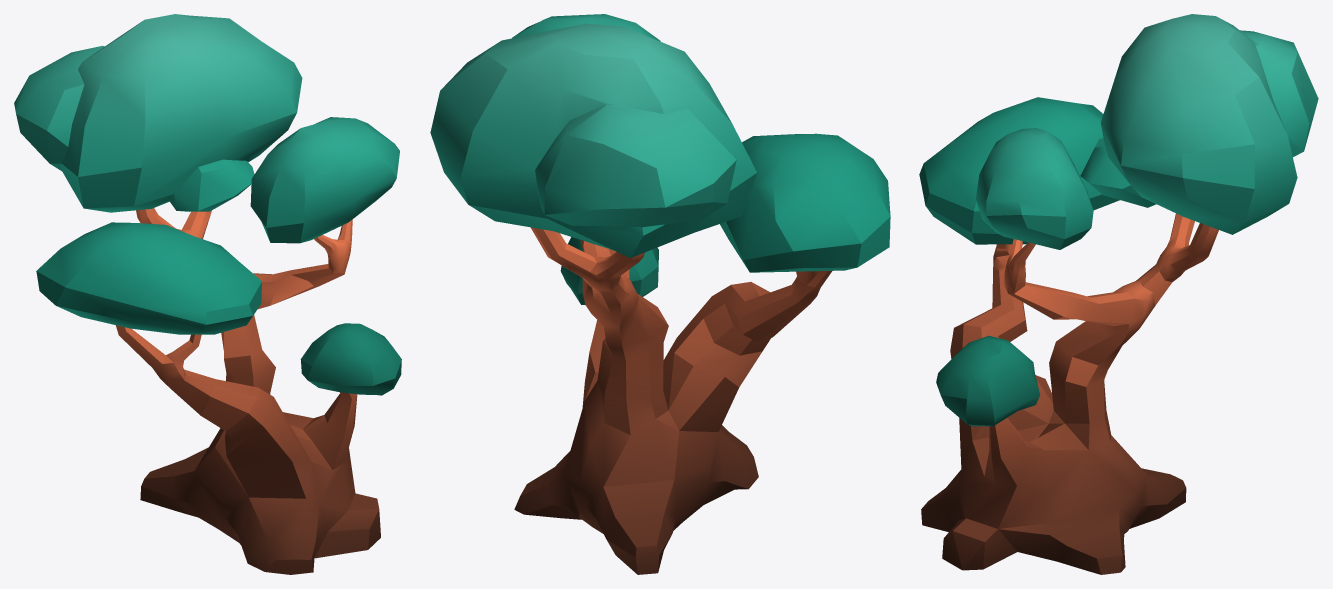
The model's file is Tree_D_1.fbx.
3 views of the same model, side by side, from view 1: azimuth 30°, elevation 25°; view 2: azimuth 150°, elevation 25°; view 3: azimuth 270°, elevation 25° (orthographic). The views are drawn at different scales.
Visible parts, largest first — view 1: Tree_D_1; view 2: Tree_D_1; view 3: Tree_D_1.
Part boxes in pixels (box(x1,y1,x2,y2)): Tree_D_1: box(14, 14, 401, 574); Tree_D_1: box(430, 14, 890, 574); Tree_D_1: box(919, 14, 1318, 574).
Bounding box in the file's own units: 367 × 485 × 360.
